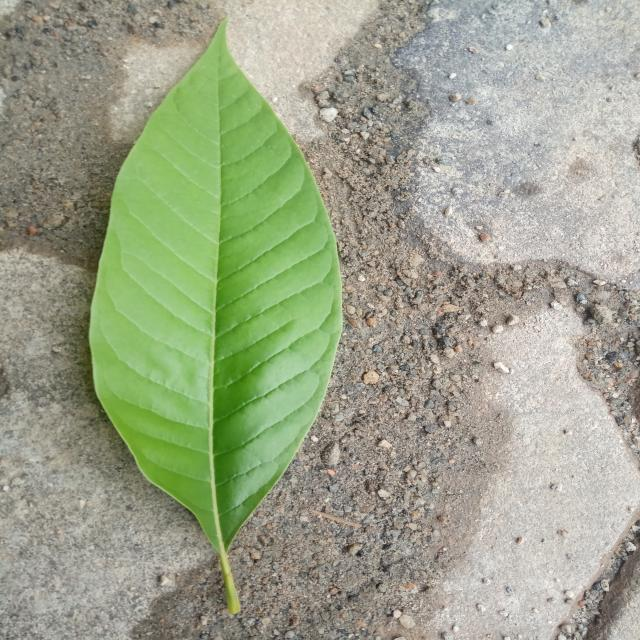coffee: (90, 21, 342, 614)
